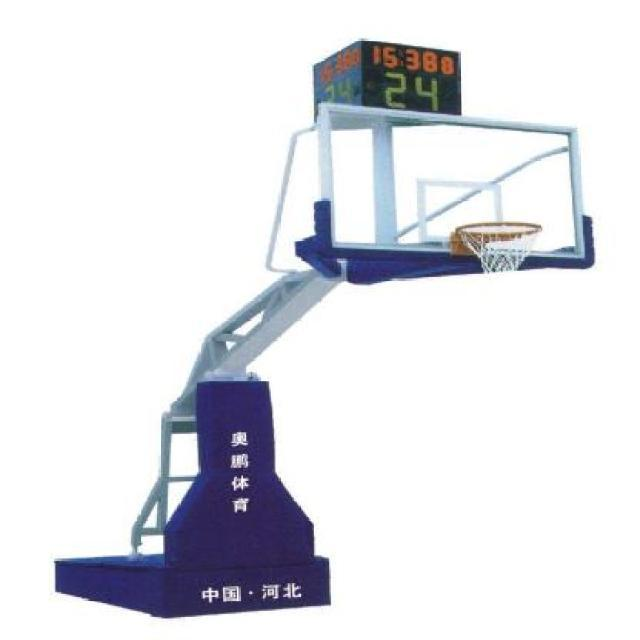rim: (453, 220, 542, 278)
